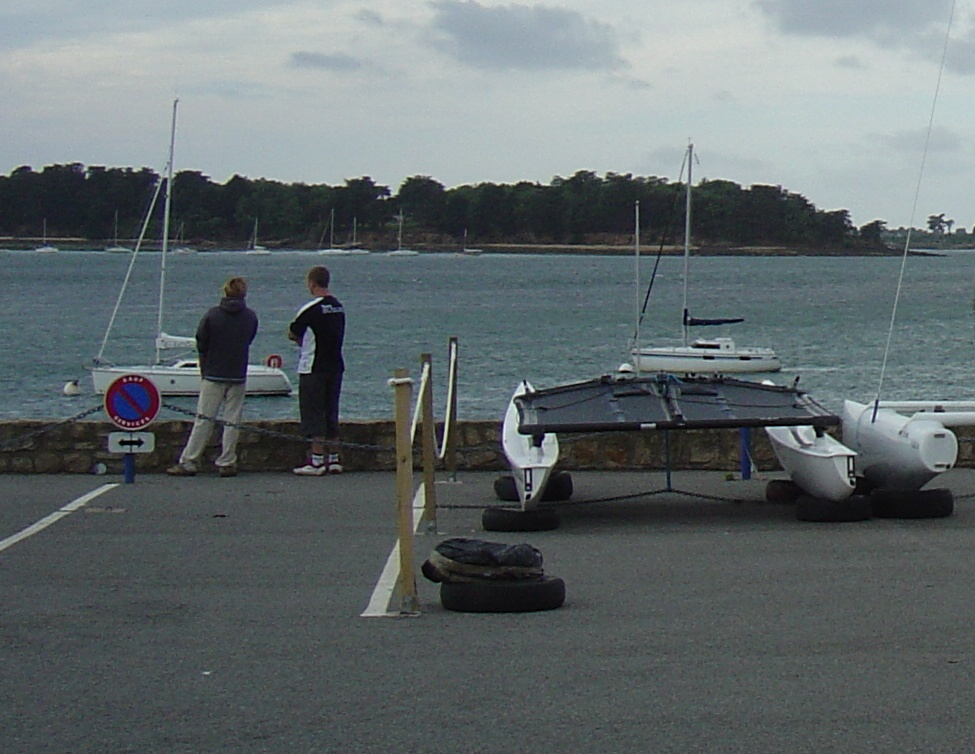person: (283, 264, 352, 471), (196, 273, 256, 477)
